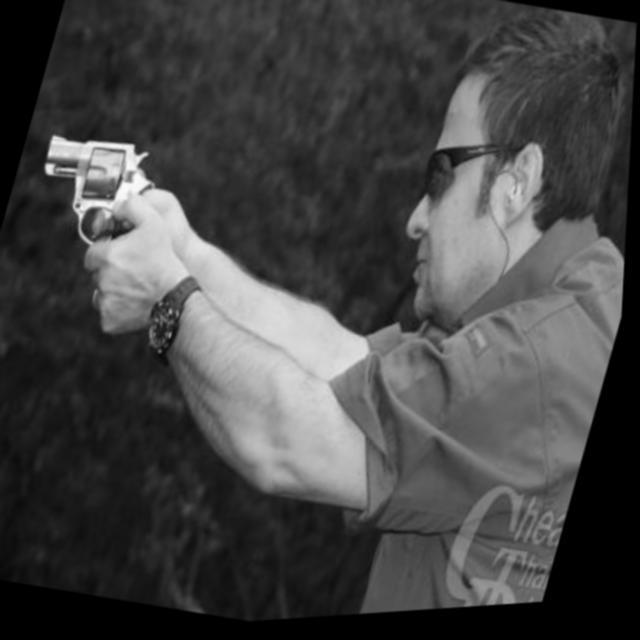weapon: (0, 115, 194, 318)
